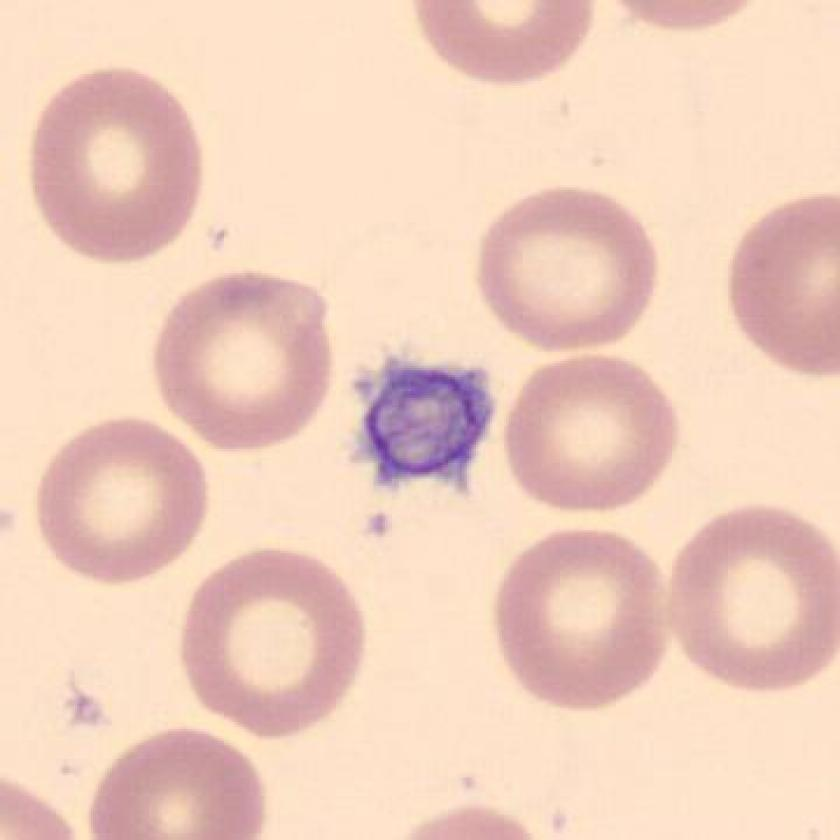platelets: (339, 344, 505, 510)
